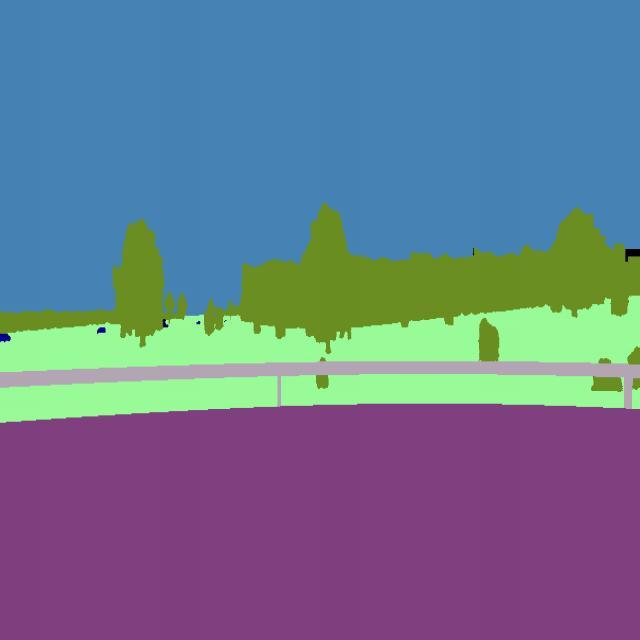safe: (0, 327, 17, 348), (93, 322, 109, 338)
